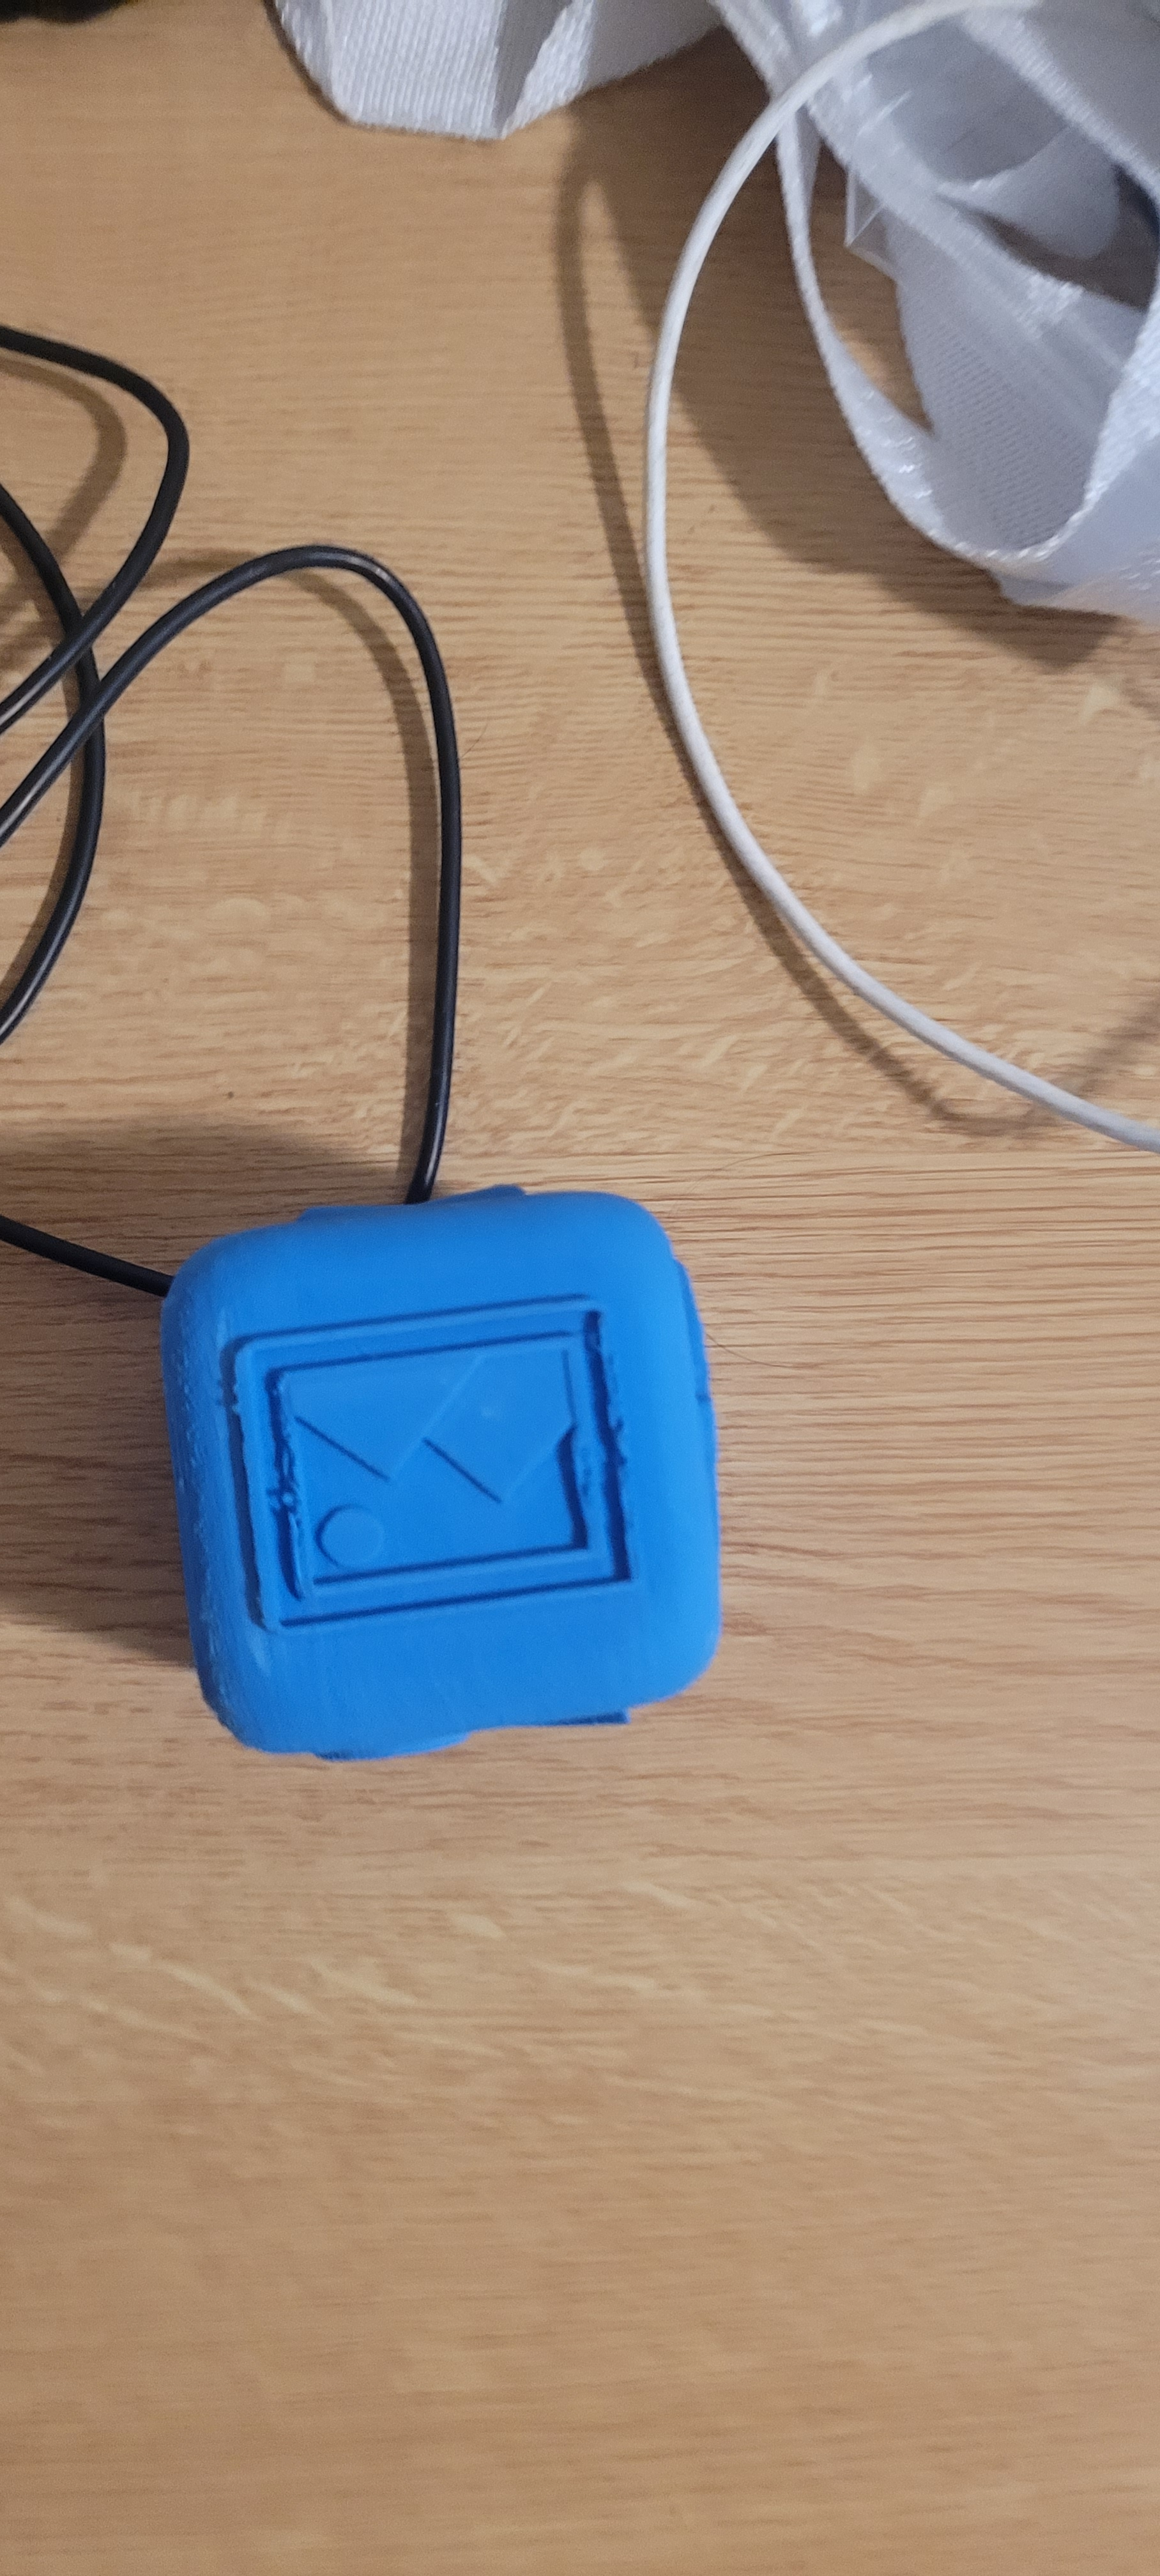Story: (196, 1291, 692, 1692)
